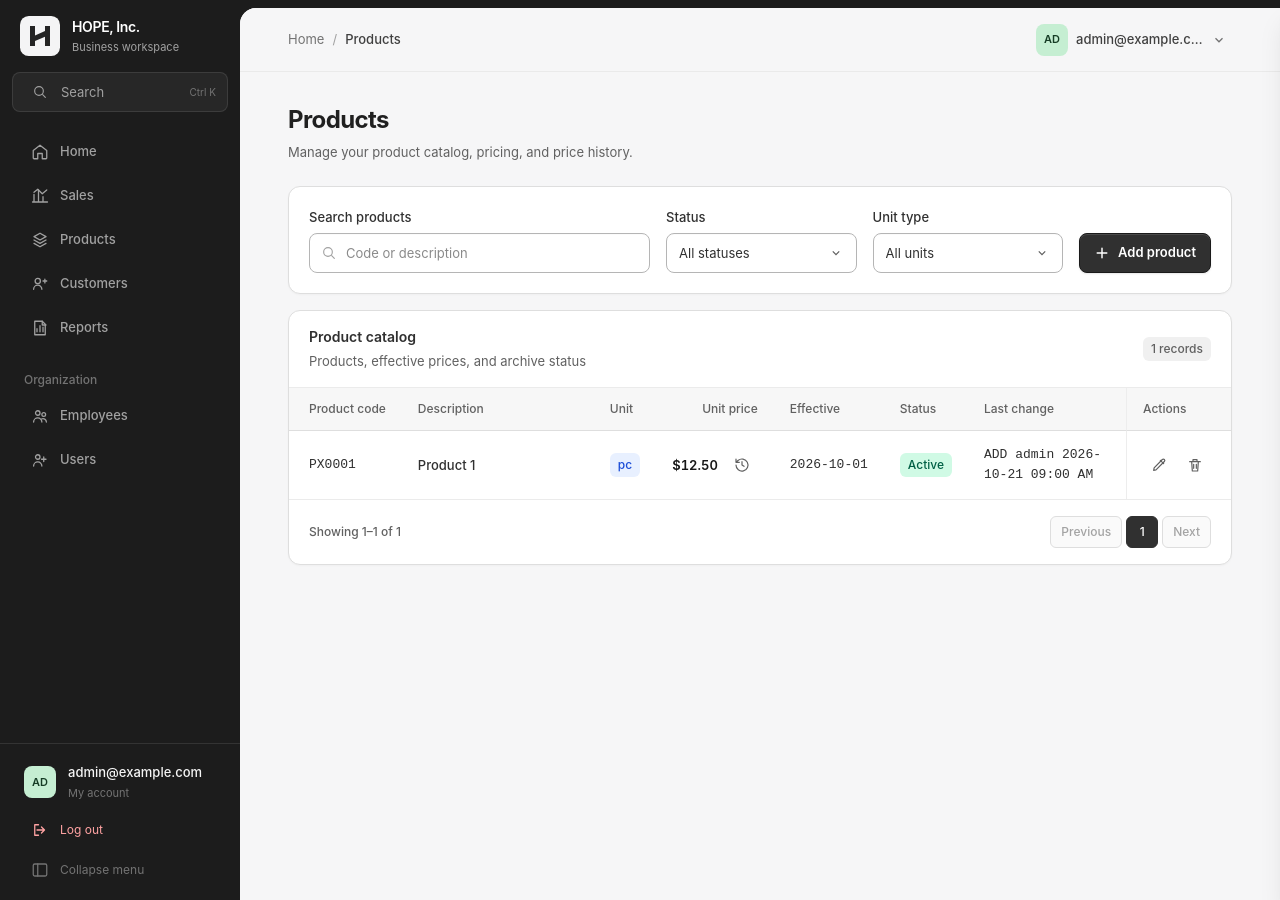
Test: shows a clear archive error when a product has active sales
The width and height of the screenshot is (1280, 900).
Expected: the text "Product 1" is shown, left=402, top=431, right=594, bottom=499
Step 1. Click the button named "Archive PX0001" → (1195, 465), box left=1179, top=449, right=1211, bottom=481
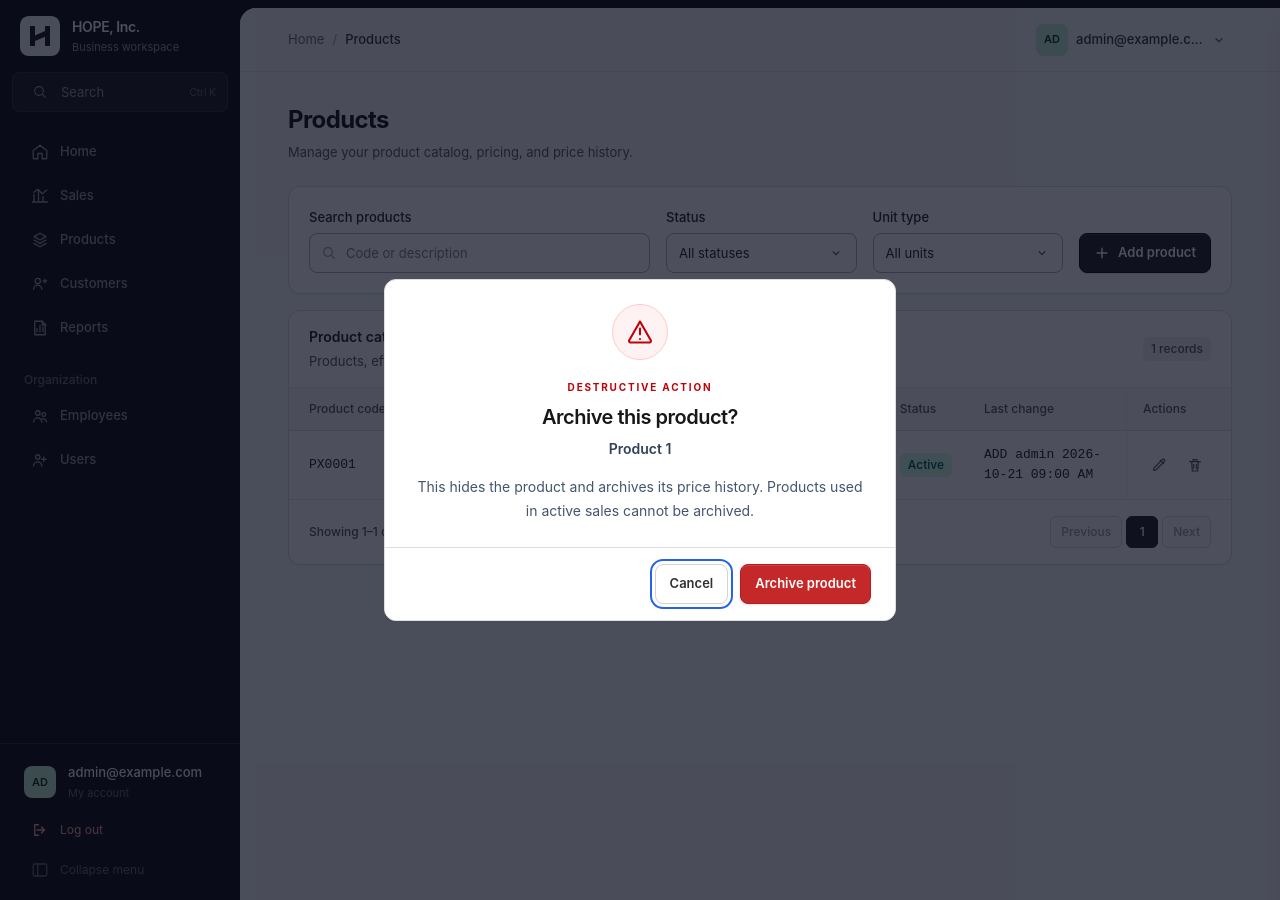
Step 2. Click the button "Archive product" → (806, 584), box left=740, top=564, right=871, bottom=604
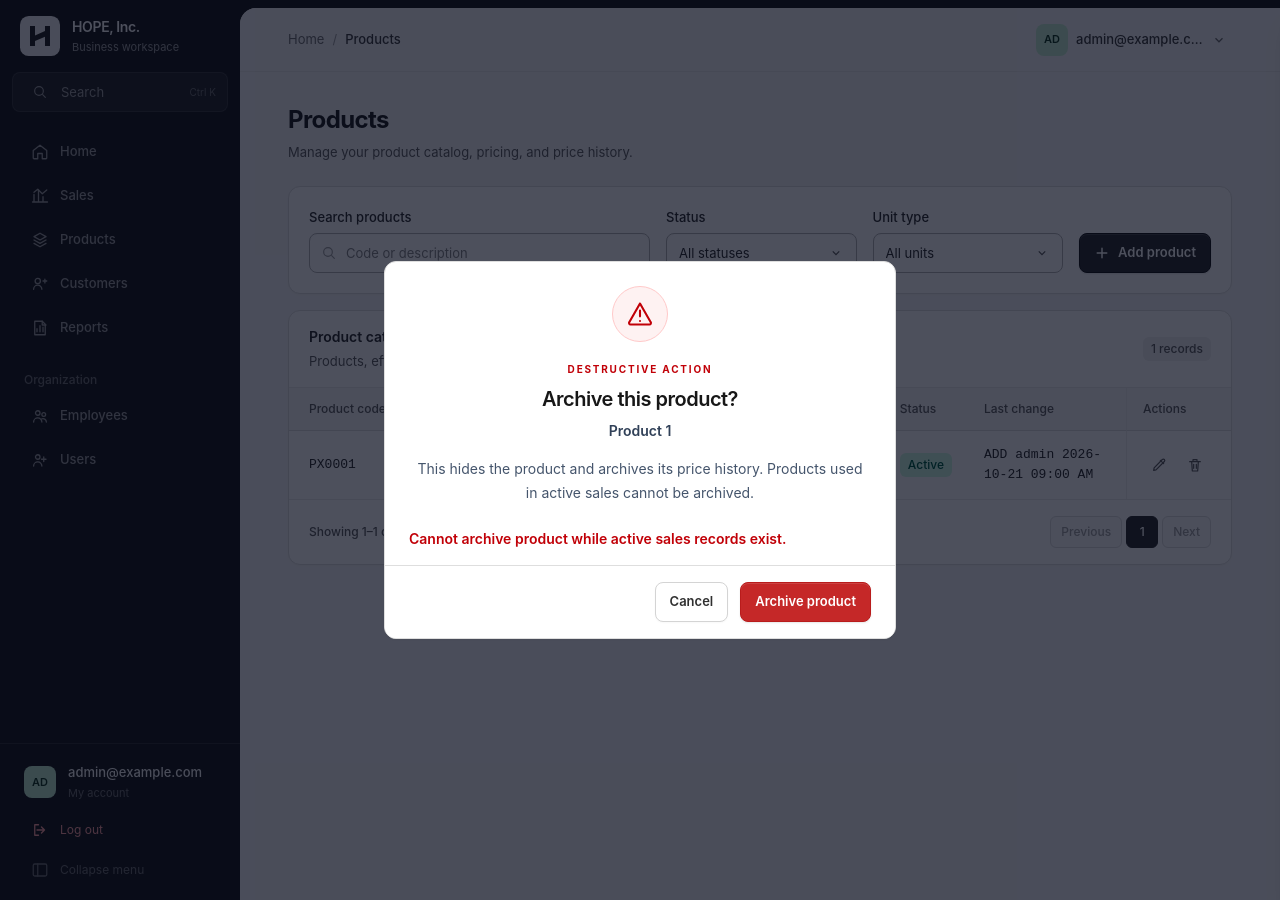
Expected: the dialog is shown, left=384, top=261, right=896, bottom=639
Expected: the message shows "active sales records", left=409, top=530, right=786, bottom=547
